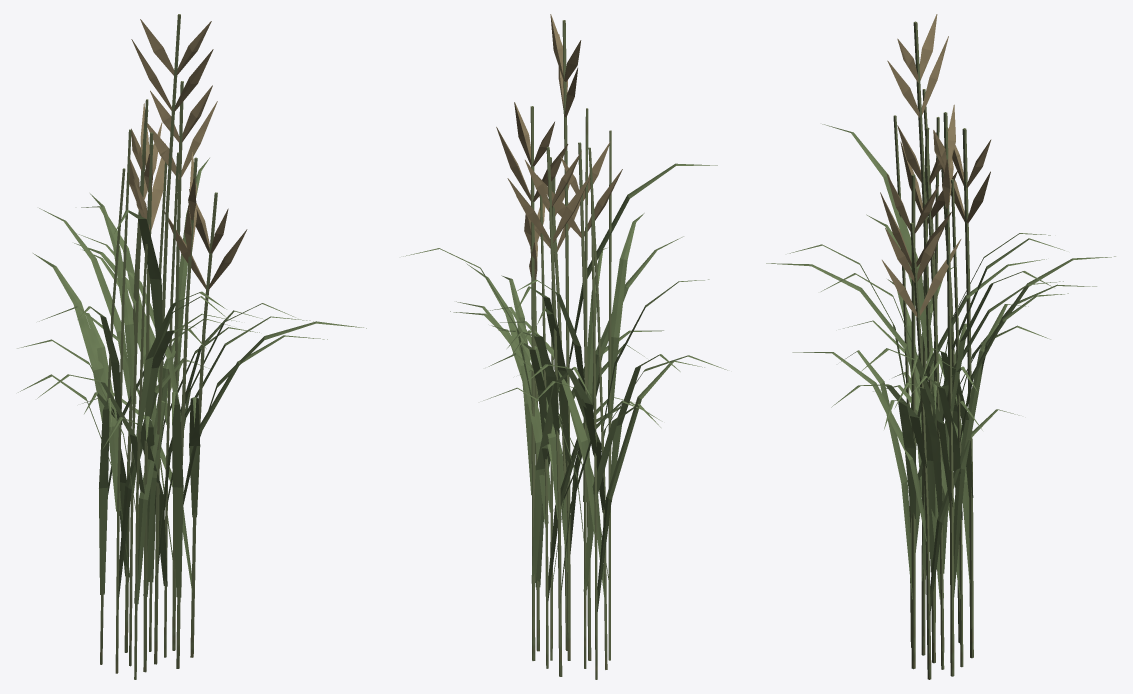
File: river_river_reeds_dense.glb
The picture shows the model from 3 angles, left to right: view 1: azimuth 30°, elevation 25°; view 2: azimuth 150°, elevation 25°; view 3: azimuth 270°, elevation 25°; orthographic projection. The views are drawn at different scales.
Parts seen in each view (by area): view 1: RiverReedsDense; view 2: RiverReedsDense; view 3: RiverReedsDense.
Part boxes in pixels (x1,y1,x2,y2): RiverReedsDense: [17, 14, 366, 679]; RiverReedsDense: [403, 14, 727, 679]; RiverReedsDense: [766, 14, 1115, 679].
Bounding box in the file's own units: 0.8833 × 1.8 × 0.9.
1 material, 1 textured.
